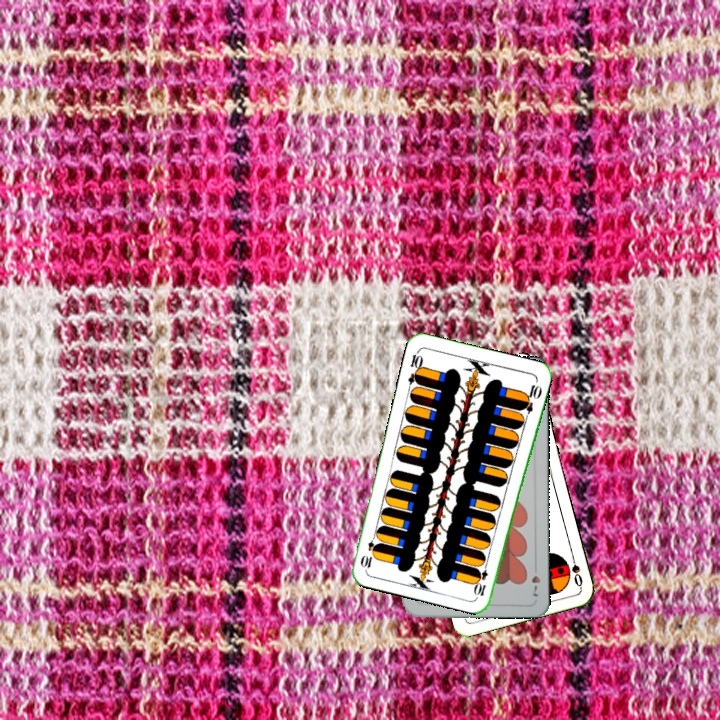E10: (404, 347, 426, 387), (473, 558, 490, 599)
H7: (528, 560, 543, 599)
SO: (567, 550, 585, 590)
